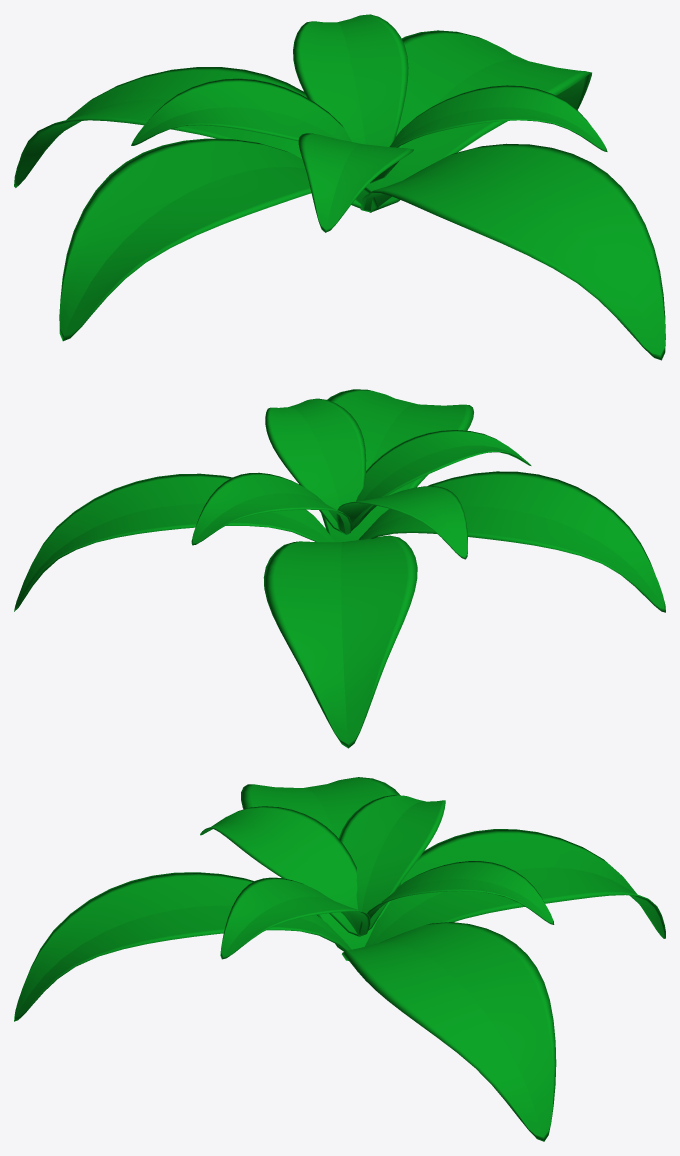
File: PalmGrass1.fbx
3 views of the same model, one above another, from view 1: azimuth 30°, elevation 25°; view 2: azimuth 150°, elevation 25°; view 3: azimuth 270°, elevation 25° (orthographic). The views are drawn at different scales.
Visible parts, largest first — view 1: PalmGrass1; view 2: PalmGrass1; view 3: PalmGrass1.
Boxes of the visible parts, left/top/right/bottom form: PalmGrass1: left=14, top=14, right=665, bottom=360; PalmGrass1: left=14, top=389, right=665, bottom=748; PalmGrass1: left=14, top=777, right=665, bottom=1141.
Bounding box in the file's own units: 5.81 × 5.8 × 1.55.
